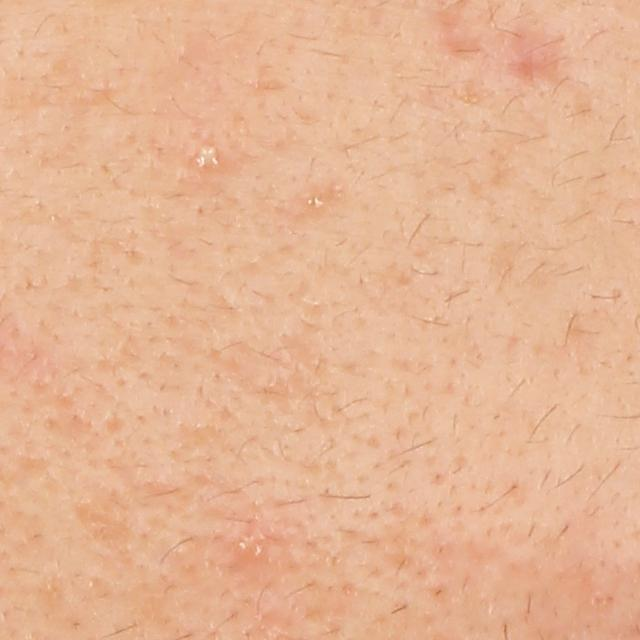pustule: (189, 135, 231, 173)
